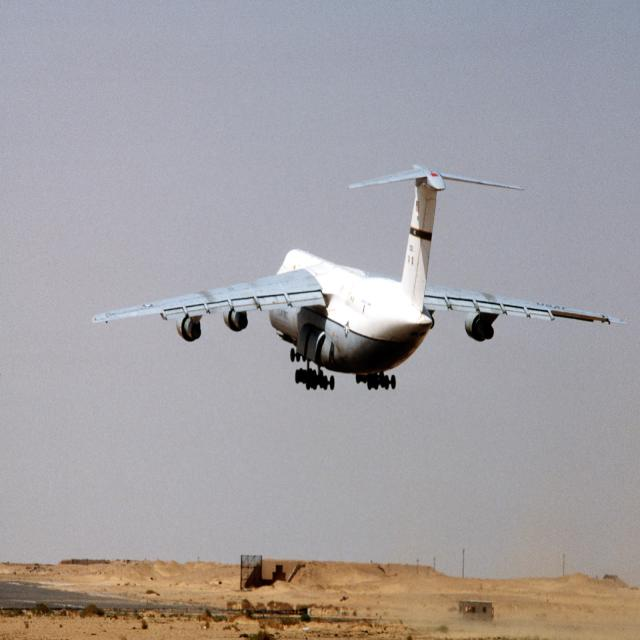MIL_Plane: (318, 163, 401, 390)
